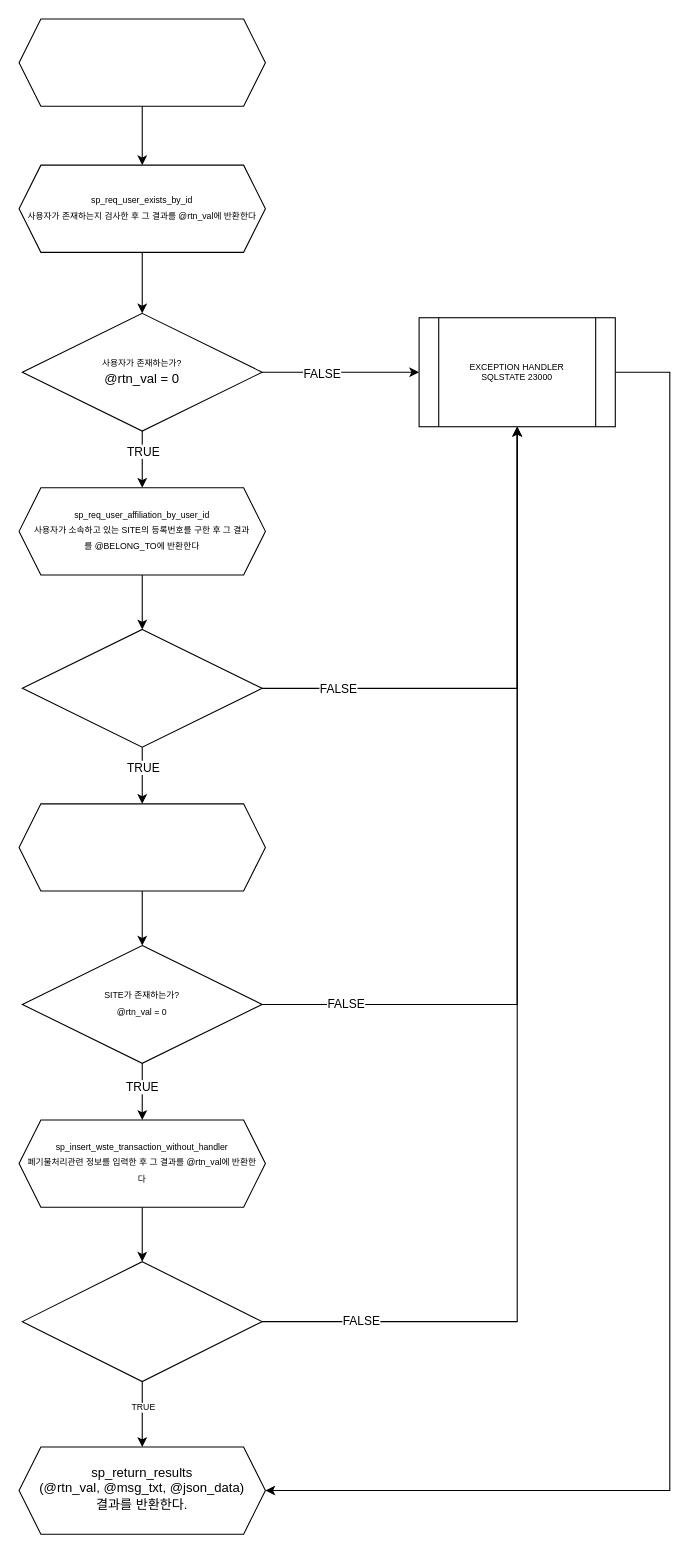
Image size: 698x1553. Some labels were removed from this diagram. Each missing label, with the box of its shape:
sp_req_current_time 현재 시간을 구한 후 그 값을 @REG_DT에 반환한다: (18, 18, 265, 106)
sp_req_site_exists SITE가 존재하는지 검사한 후 그 결과를 @rtn_val에 반환한다: (18, 803, 265, 891)
수거자가 사업자인가? @BELONG_TO > 0: (21, 628, 262, 747)
폐기물처리관련 정보 입력 성공? @rtn_val = 0: (21, 1261, 262, 1382)
